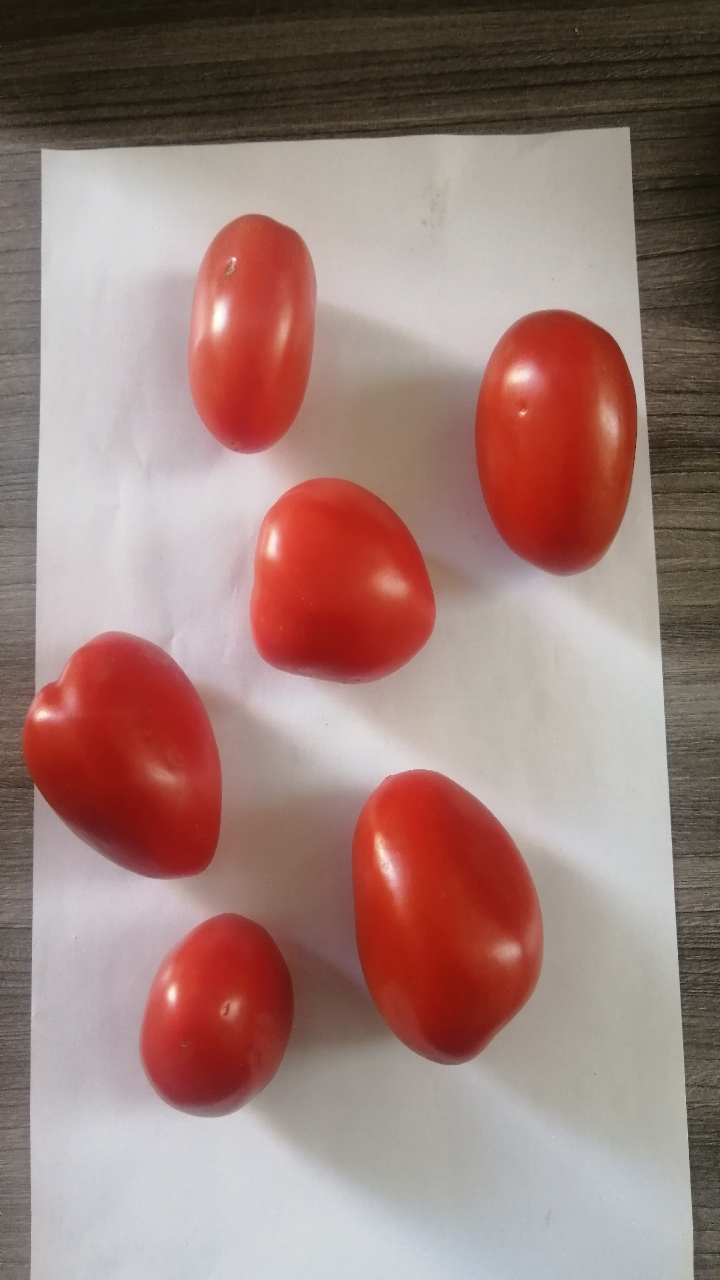tomateRojo: (324, 742, 568, 1080), (461, 288, 651, 595), (12, 626, 232, 889), (220, 468, 454, 699), (152, 205, 340, 462), (104, 902, 315, 1129)
